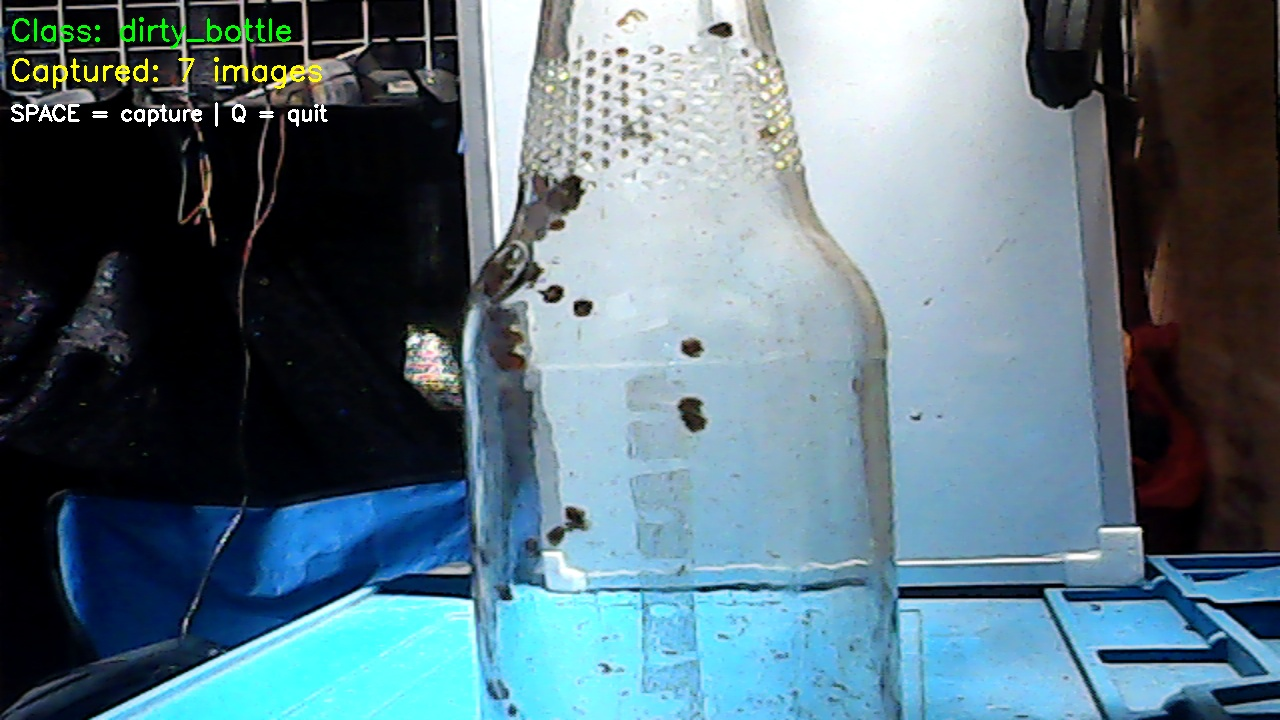dirty_bottle: (457, 7, 910, 720)
